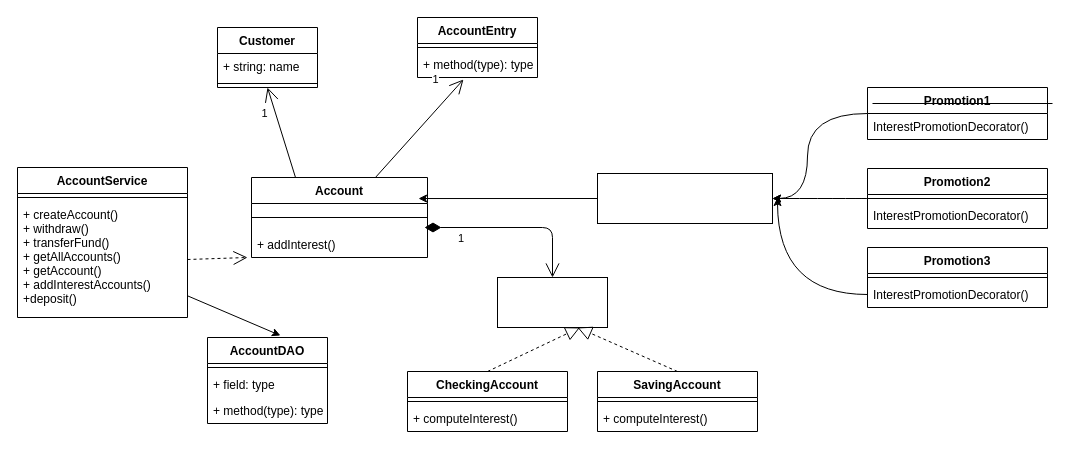
The diagram is 1070 pixels wide and 452 high, and some of its shapes have lost their labels. The shapes that lost their labels are listed below. From the top down, each one's centre as x and y in pixels, then its label:
point (684, 198): «abstract» InterestPromotionDecorator
point (552, 302): «interface» AccountType
